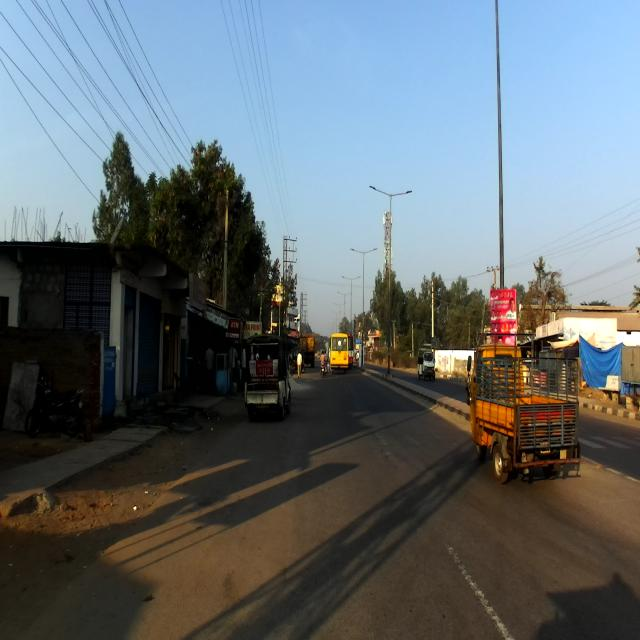auto ahead at: (467, 326, 582, 496)
